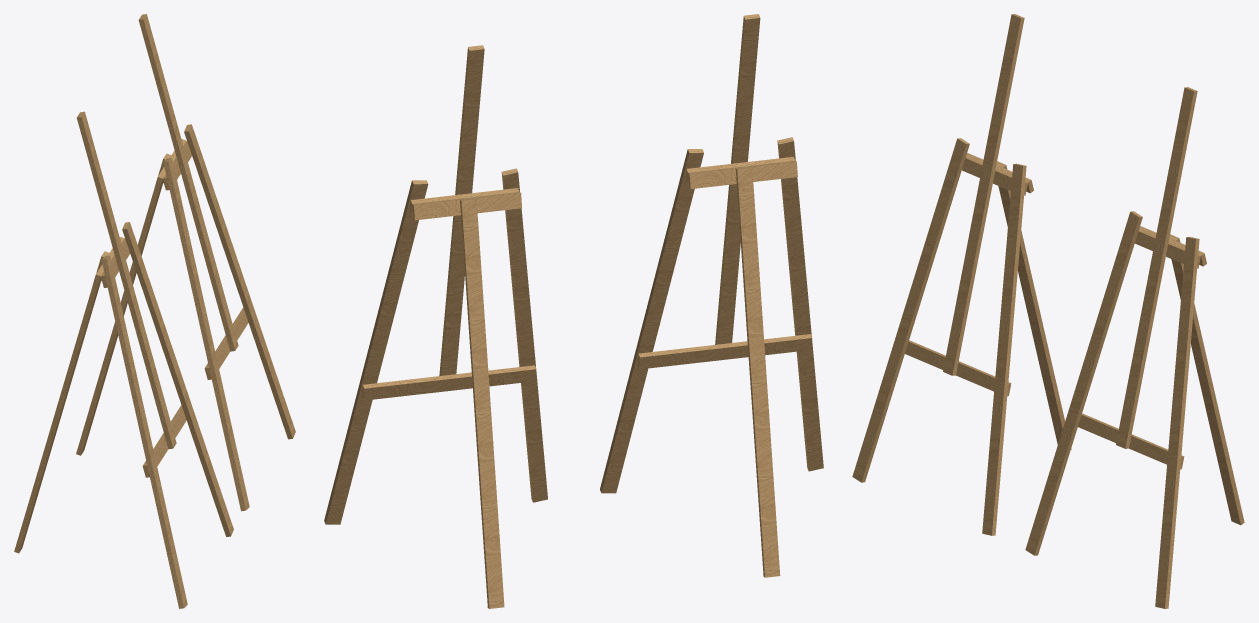
The model's file is 29_openskp_material_34.obj.
3 views of the same model, side by side, from view 1: azimuth 30°, elevation 25°; view 2: azimuth 150°, elevation 25°; view 3: azimuth 270°, elevation 25° (orthographic). The views are drawn at different scales.
Visible parts, largest first — view 1: 29_openskp_material_34; view 2: 29_openskp_material_34; view 3: 29_openskp_material_34.
Part boxes in pixels (x1,y1,x2,y2): 29_openskp_material_34: (14, 14, 295, 608); 29_openskp_material_34: (324, 14, 823, 608); 29_openskp_material_34: (852, 14, 1244, 608).
Bounding box in the file's own units: 22.21 × 28.36 × 22.22.
1 material, 1 textured.
